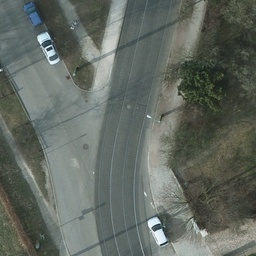car: (37, 33, 59, 66), (23, 1, 45, 34), (147, 214, 167, 247)
